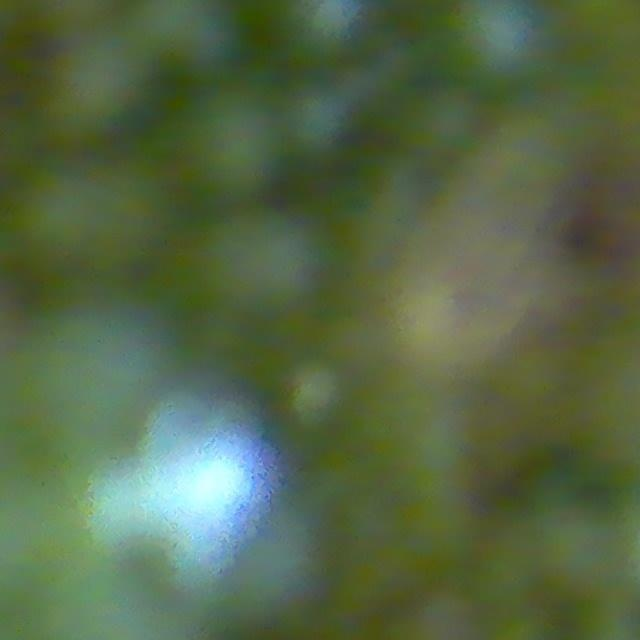SeaGrape: (202, 202, 328, 323), (181, 83, 289, 202), (43, 27, 151, 141), (442, 0, 548, 98), (130, 0, 242, 74), (270, 0, 370, 62), (403, 86, 481, 162), (282, 355, 355, 431), (283, 79, 355, 156)
